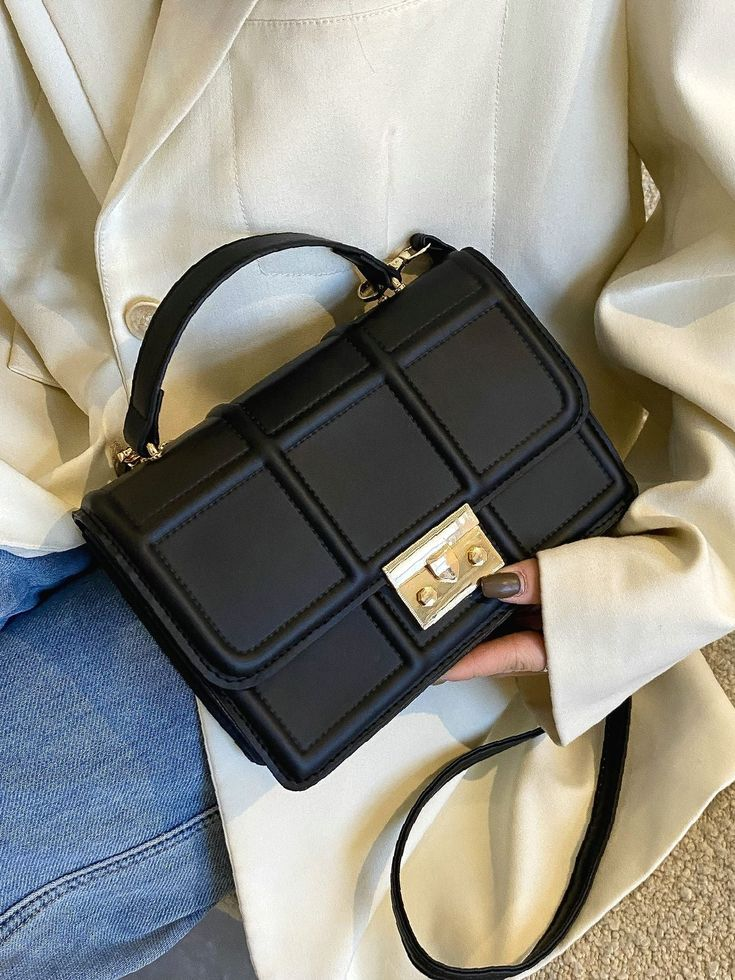cuero: (69, 230, 639, 790)
